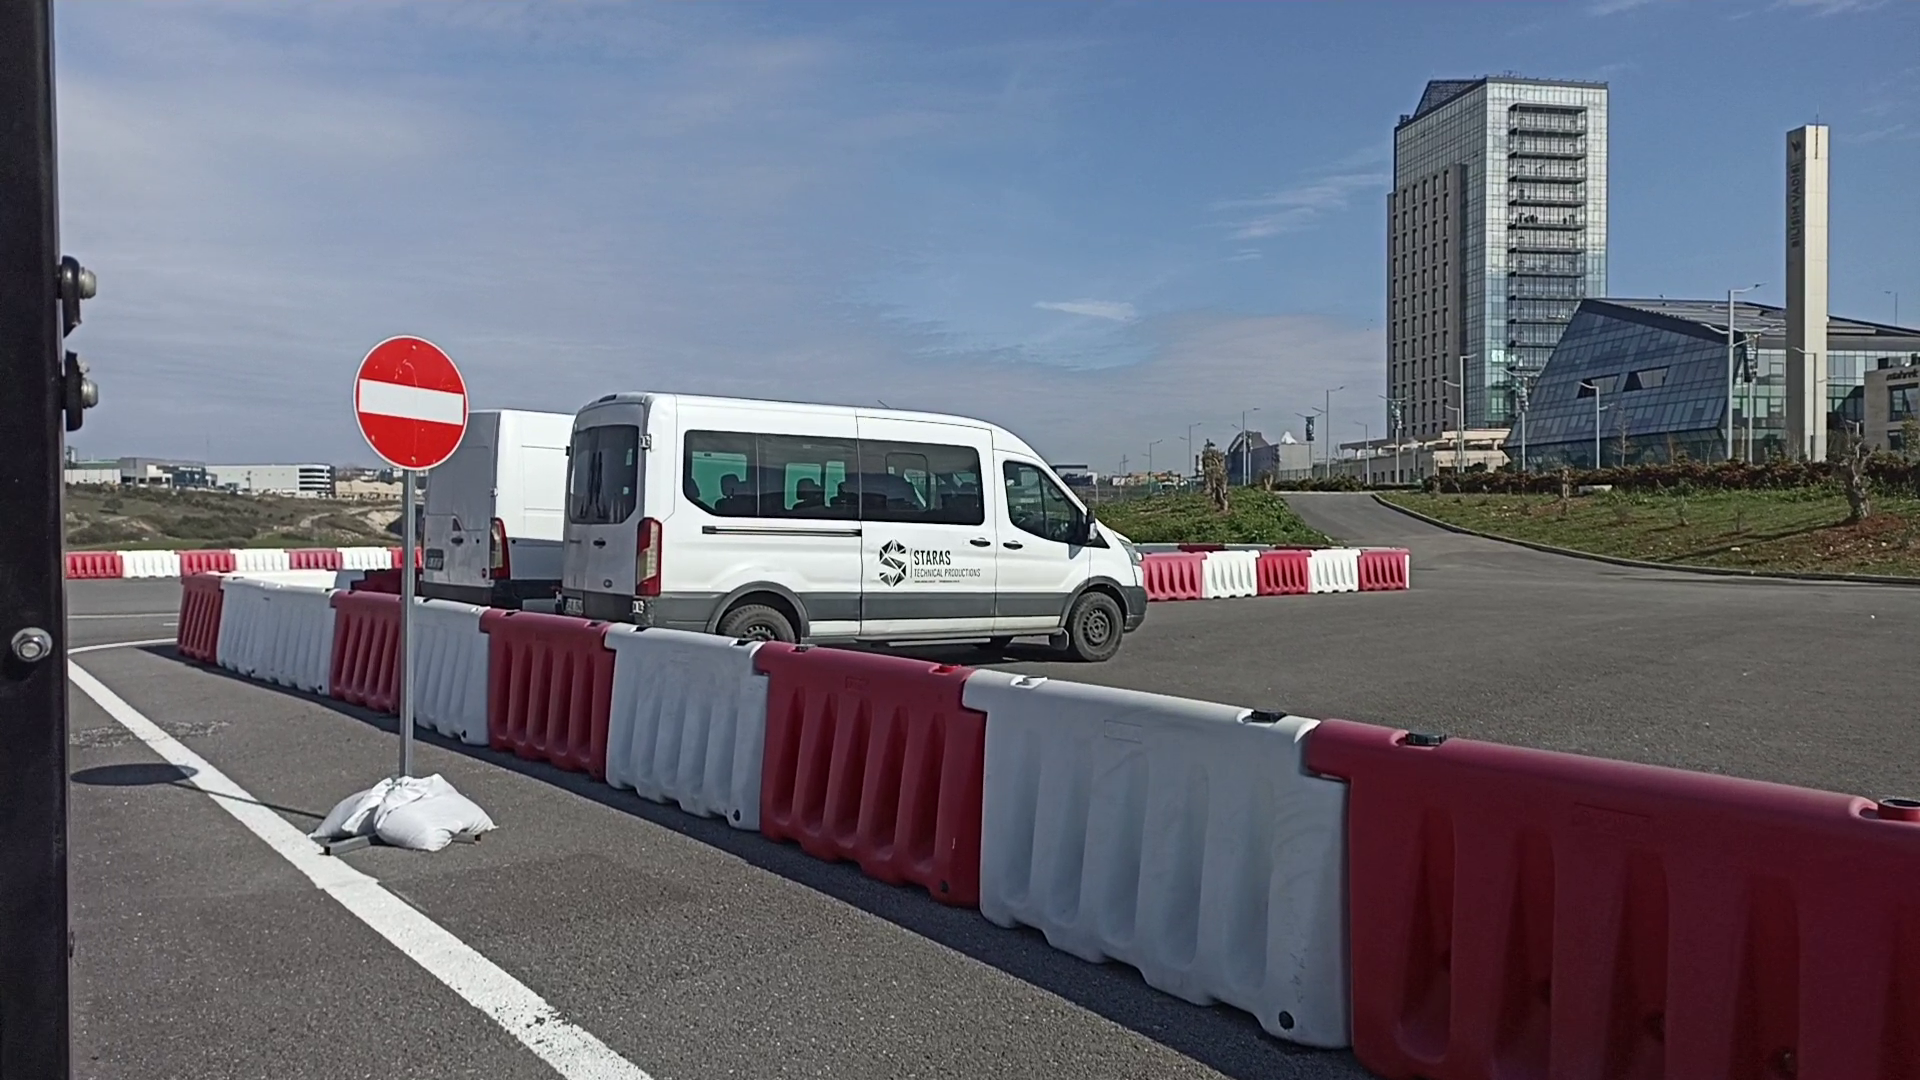noentryway: (351, 331, 472, 472)
